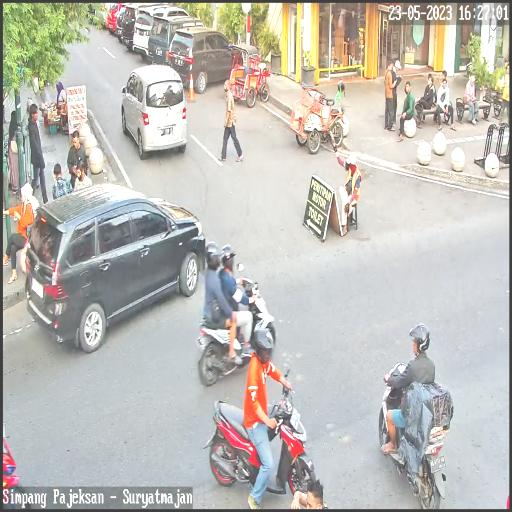mobil: (20, 192, 207, 355), (119, 63, 190, 166), (170, 28, 237, 94), (134, 6, 188, 59), (149, 16, 205, 66)
motor: (203, 379, 327, 507), (379, 355, 451, 512), (197, 270, 278, 385)
